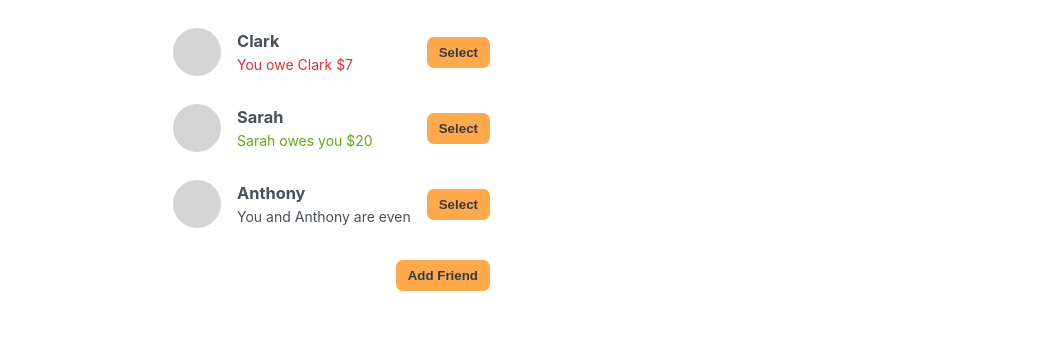
Test case: selecting a friend shows BillForm
The image size is (1045, 358).
Click the button "Select" in the row of "You owe". click: (458, 52)
box: [427, 36, 490, 68]
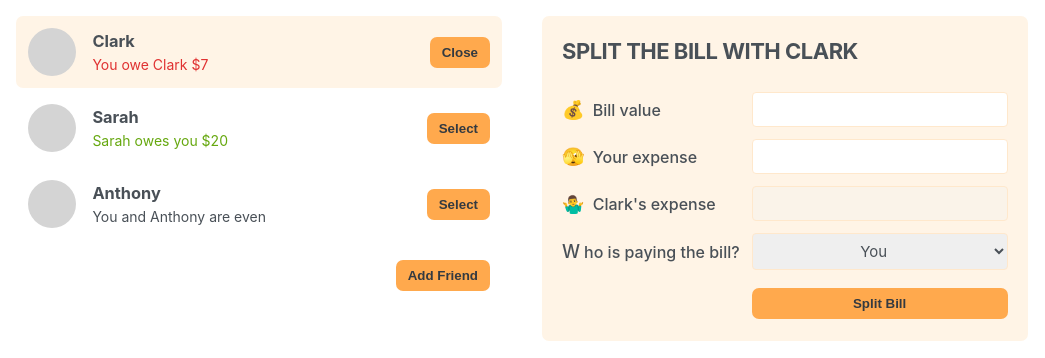
Check: the heading "Split the Bill with Clark" is shown, box [562, 38, 858, 64]
